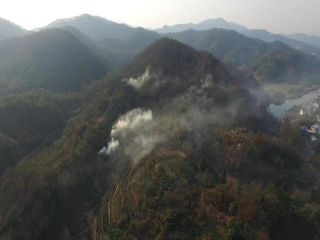smoke: (97, 107, 172, 163), (123, 67, 172, 96)
